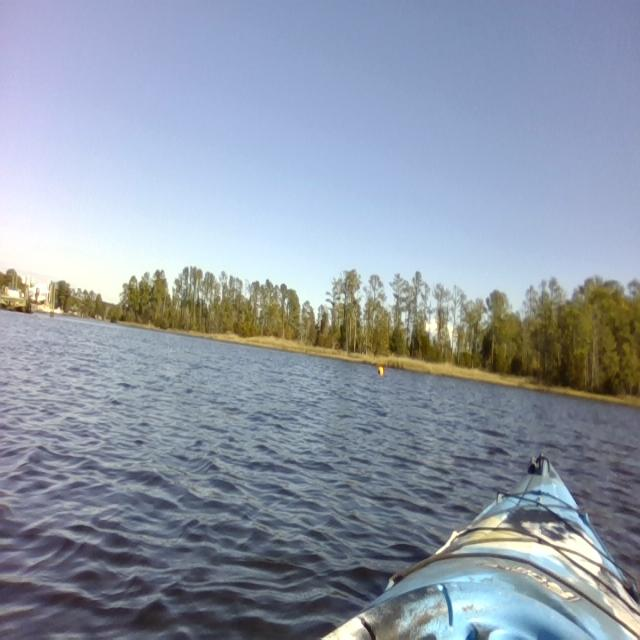Buoy: (375, 362, 388, 379)
